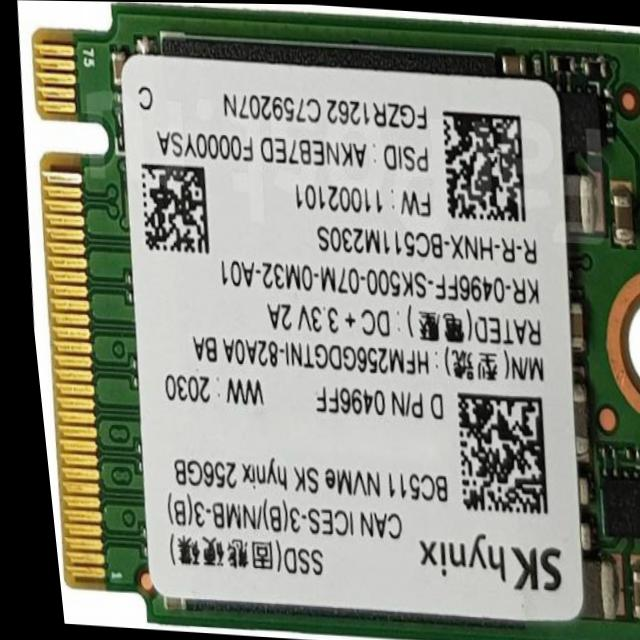datamatrix: (443, 390, 543, 515), (434, 109, 527, 222), (133, 162, 209, 254)
